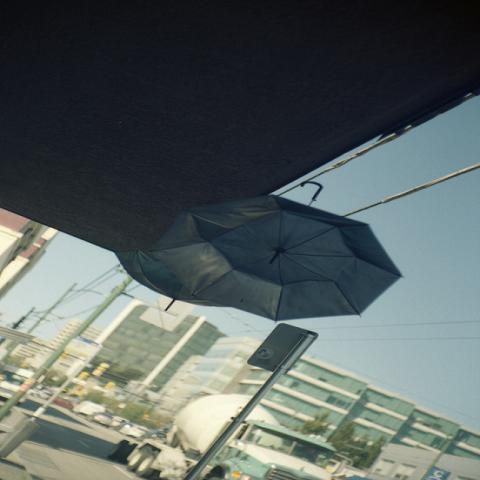truck: (118, 395, 354, 478), (71, 400, 106, 416)
